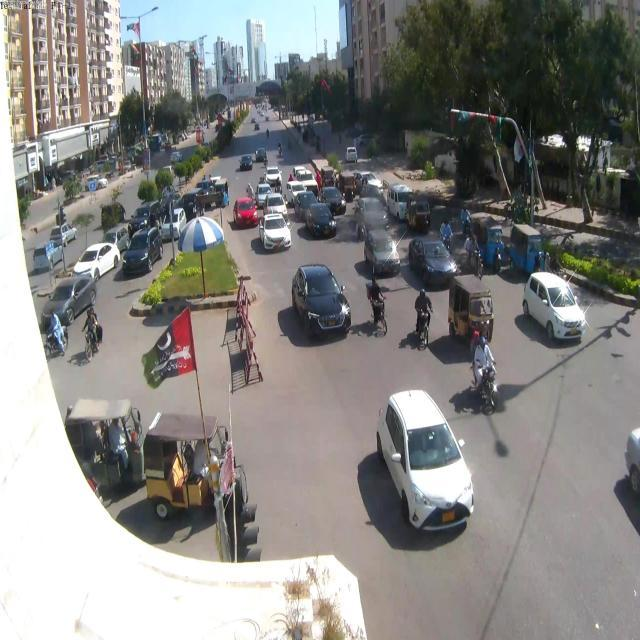car: (376, 389, 477, 534), (289, 262, 353, 342), (522, 272, 588, 344), (43, 273, 97, 324), (410, 240, 460, 292), (120, 226, 163, 280), (73, 241, 117, 279), (294, 201, 336, 240), (257, 212, 292, 252), (157, 206, 188, 242), (234, 197, 258, 229), (265, 188, 284, 228), (318, 186, 344, 213), (253, 182, 271, 212), (238, 154, 253, 170), (266, 166, 282, 179)
motorbike: (471, 333, 501, 415), (364, 275, 392, 340), (79, 306, 108, 362), (408, 284, 432, 347), (47, 308, 65, 359)
